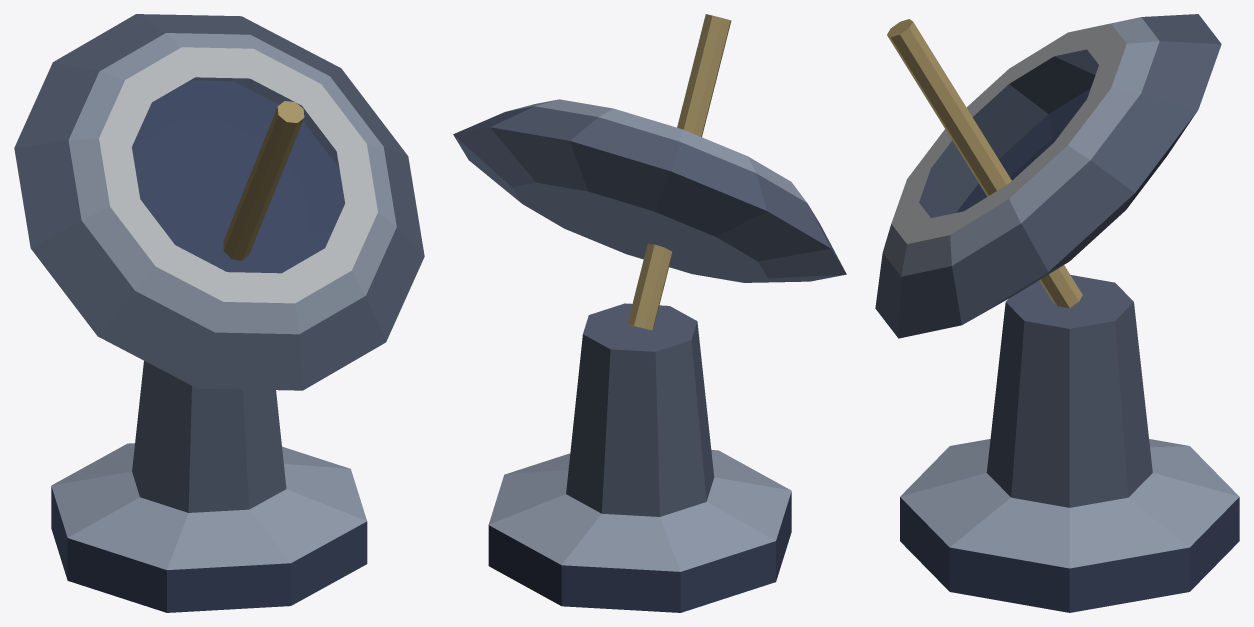
File: signal-dish.glb
3 renders of one model, left to right at view 1: azimuth 30°, elevation 25°; view 2: azimuth 150°, elevation 25°; view 3: azimuth 270°, elevation 25°, orthographic. The views are drawn at different scales.
Visible parts, largest first — view 1: signal-dish__body; view 2: signal-dish__body; view 3: signal-dish__body.
Boxes of the visible parts, x1,y1,x2,y2 form: signal-dish__body: (14, 14, 424, 612); signal-dish__body: (453, 14, 846, 612); signal-dish__body: (875, 14, 1239, 612).
Bounding box in the file's own units: 1.2 × 1.52 × 0.9653.
